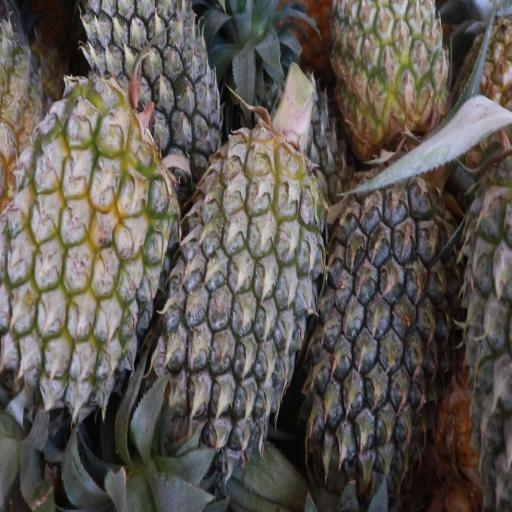------------------------------: (6, 91, 168, 419), (331, 0, 449, 148)
